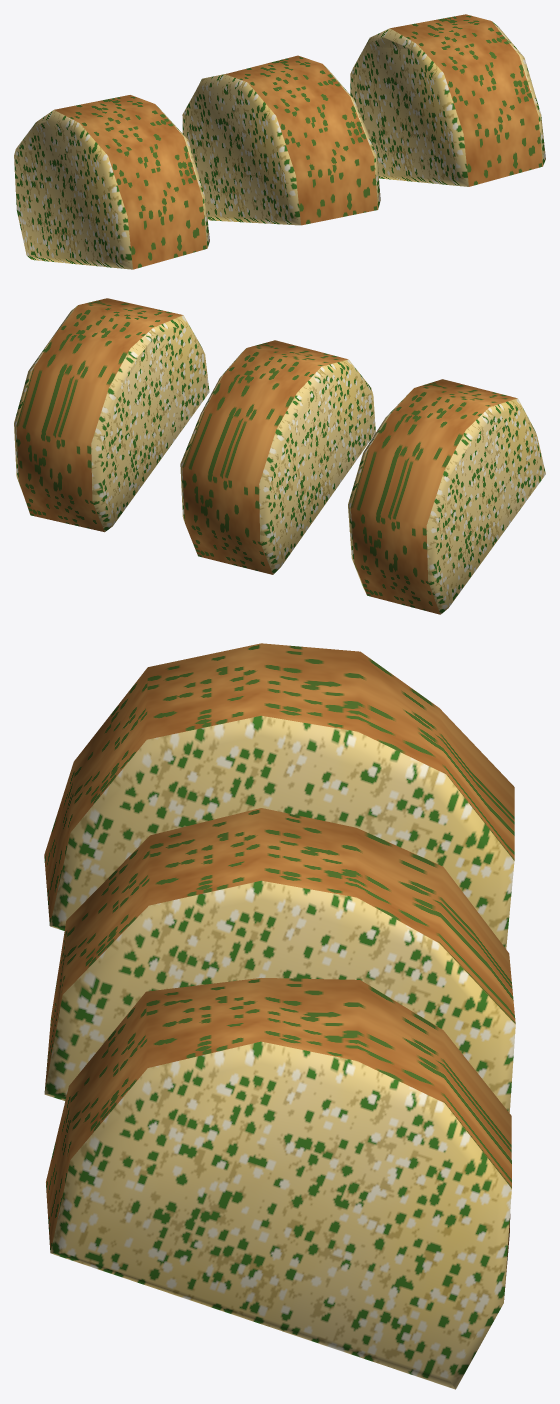
File: garlicbread.obj
The picture shows the model from 3 angles, top to bottom: view 1: azimuth 30°, elevation 25°; view 2: azimuth 150°, elevation 25°; view 3: azimuth 270°, elevation 25°; orthographic projection. The views are drawn at different scales.
Parts seen in each view (by area): view 1: garlicbread_0_surface; view 2: garlicbread_0_surface; view 3: garlicbread_0_surface.
Part boxes in pixels (<box>): garlicbread_0_surface: <box>14,14,545,269</box>; garlicbread_0_surface: <box>14,298,545,614</box>; garlicbread_0_surface: <box>44,643,515,1389</box>.
Size of the model in its own units: 0.2158 by 0.0847 by 0.1035.
Materials: 1 (1 with a texture image).
